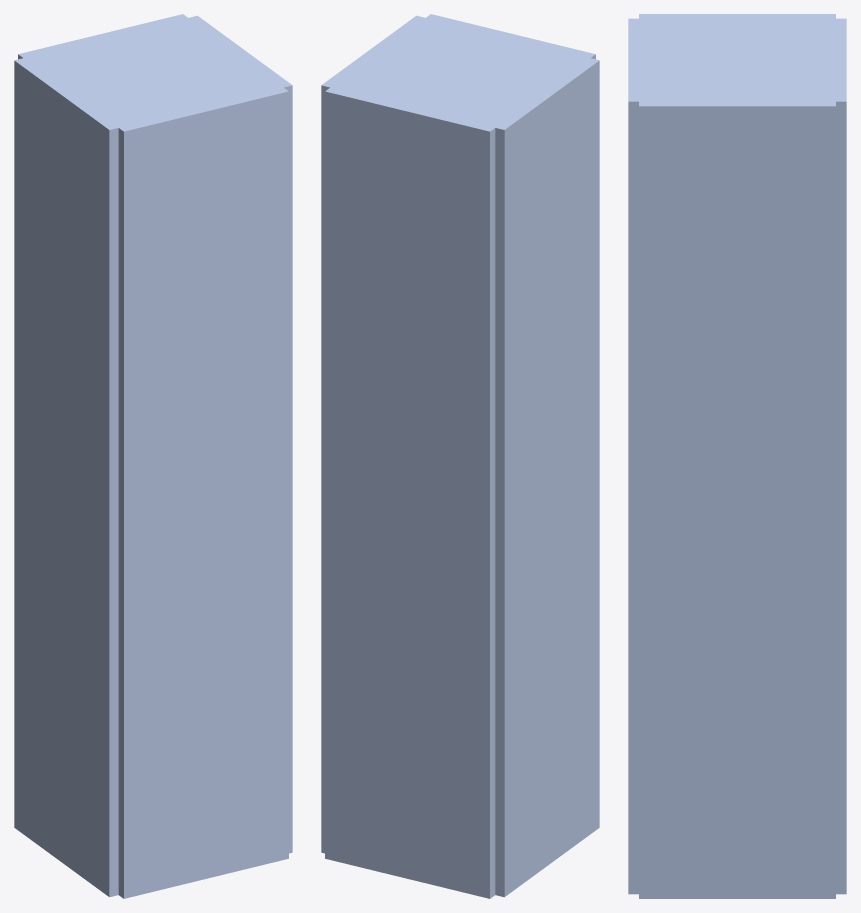
Rendered from wall_corner.obj.
3 views of the same model, side by side, from view 1: azimuth 30°, elevation 25°; view 2: azimuth 150°, elevation 25°; view 3: azimuth 270°, elevation 25° (orthographic). The views are drawn at different scales.
Visible parts, largest first — view 1: wall_corner; view 2: wall_corner; view 3: wall_corner.
Boxes of the visible parts, left/top/right/bottom form: wall_corner: left=14, top=14, right=292, bottom=898; wall_corner: left=321, top=14, right=599, bottom=898; wall_corner: left=628, top=14, right=846, bottom=898.
Bounding box in the file's own units: 20 × 80 × 20.
Materials: 1 (1 with a texture image).
